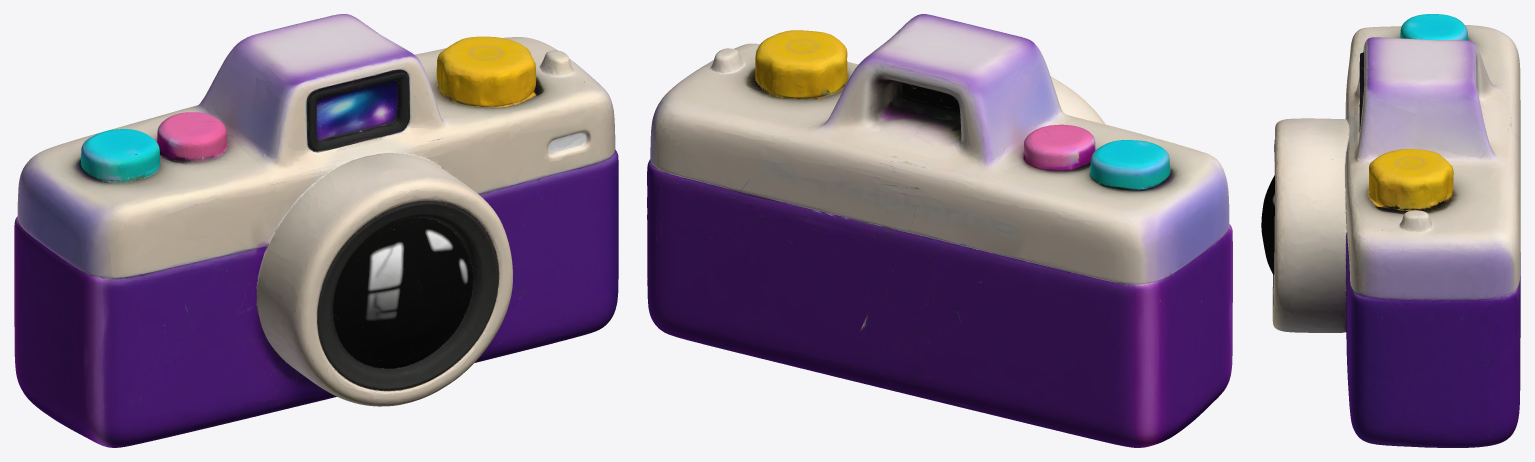
The model's file is camera-head.glb.
The picture shows the model from 3 angles, left to right: view 1: azimuth 30°, elevation 25°; view 2: azimuth 150°, elevation 25°; view 3: azimuth 270°, elevation 25°; orthographic projection. The views are drawn at different scales.
Size of the model in its own units: 1.9 by 1.1 by 0.9159.
Materials: 1 (1 with a texture image).
